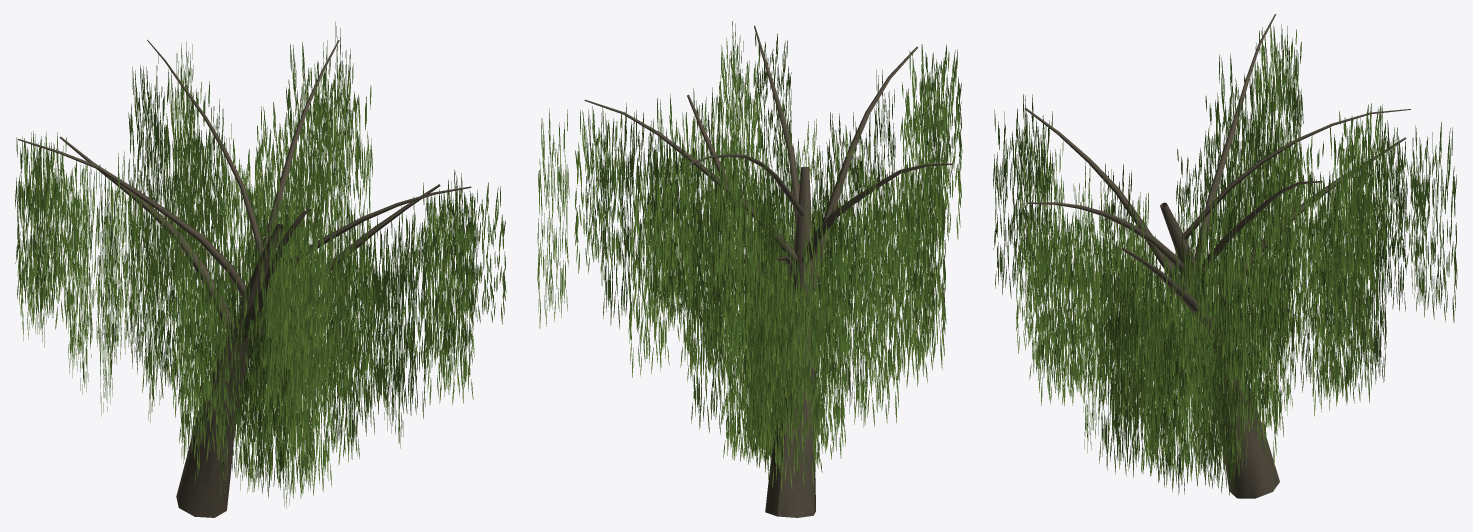
The model's file is willow_2.glb.
3 renders of one model, left to right at view 1: azimuth 30°, elevation 25°; view 2: azimuth 150°, elevation 25°; view 3: azimuth 270°, elevation 25°, orthographic. The views are drawn at different scales.
Parts seen in each view (by area): view 1: willow_2Leaves, willow_2Wood; view 2: willow_2Leaves, willow_2Wood; view 3: willow_2Leaves, willow_2Wood.
Part boxes in pixels (x1,y1,x2,y2): willow_2Leaves: [15, 22, 506, 508]; willow_2Wood: [17, 39, 471, 517]; willow_2Leaves: [537, 21, 962, 490]; willow_2Wood: [584, 25, 952, 517]; willow_2Leaves: [993, 24, 1457, 495]; willow_2Wood: [1024, 14, 1410, 498].
Size of what is drawn, in the model's own units: 4.06 by 4.2 by 4.5.
Materials: 2 (2 with a texture image).
